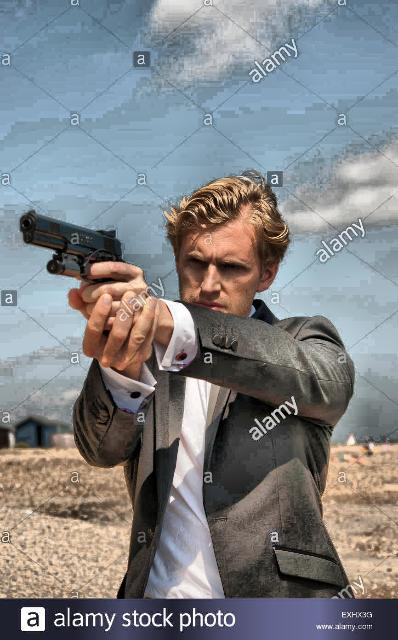pistol: (19, 210, 134, 290)
